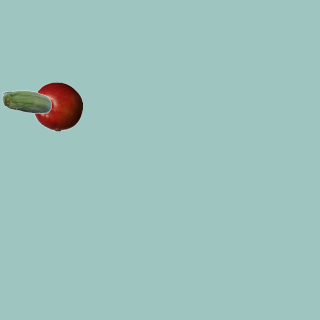Apple Braeburn: (32, 81, 82, 131)
Corn Husk: (1, 78, 51, 128)
